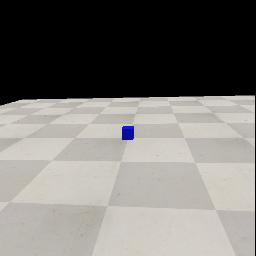box: (122, 126, 134, 140)
